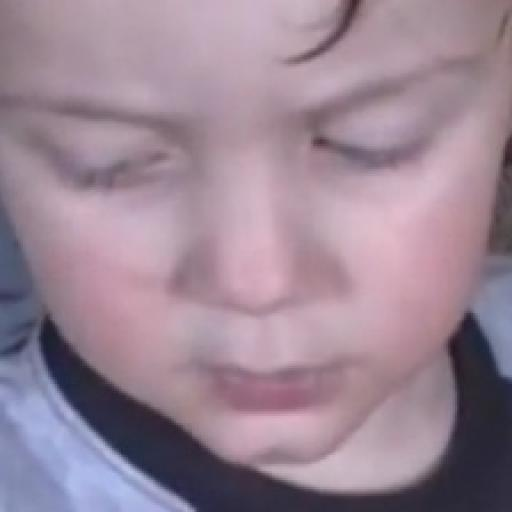Autism: (31, 25, 512, 500)
